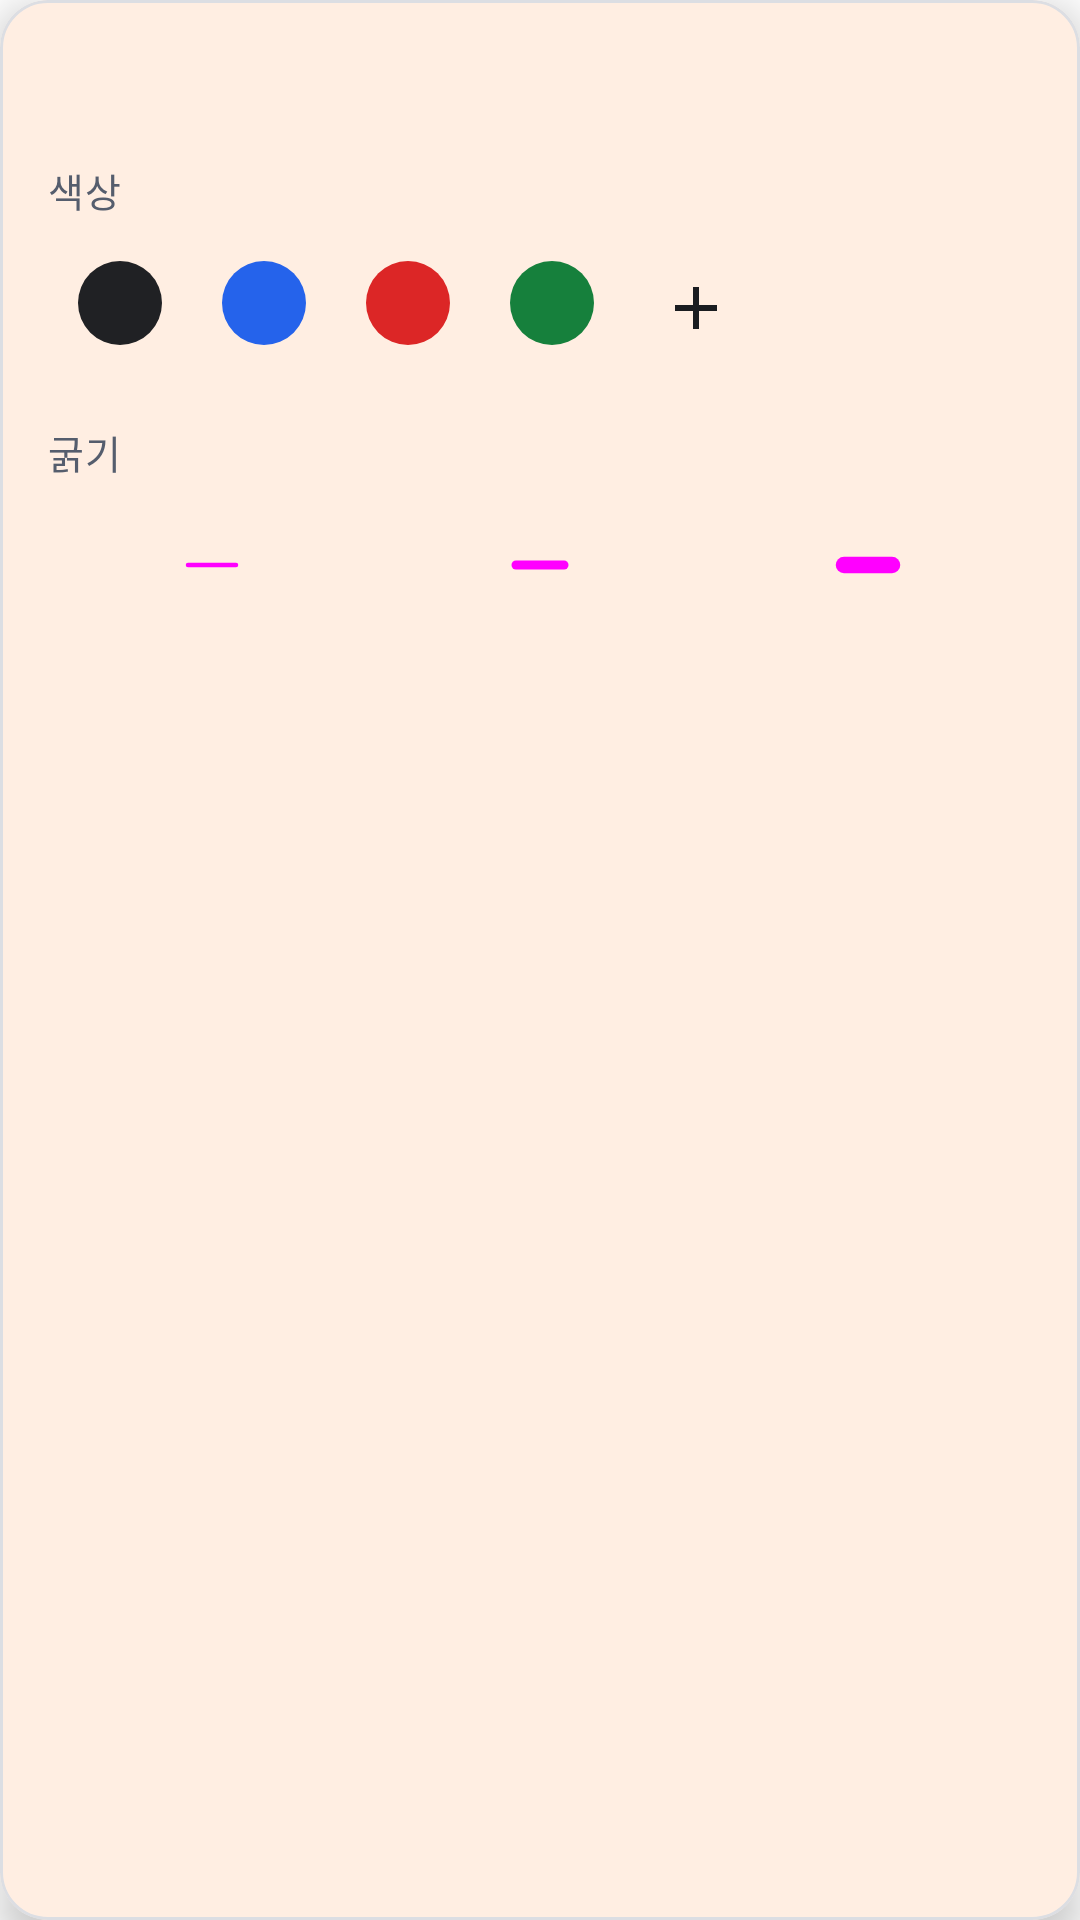

Screen size 1080 × 1920. Icon name, then its box in pixels as (x1, y1, x2, y2):
굵게: (835, 556, 901, 574)
보통: (511, 560, 569, 570)
